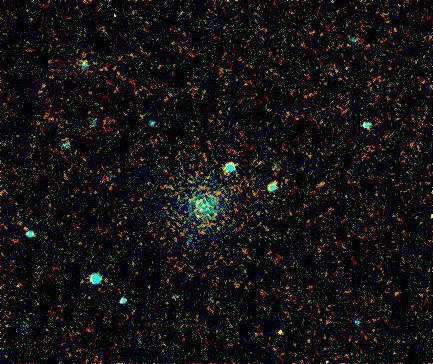star: (270, 319, 300, 349)
